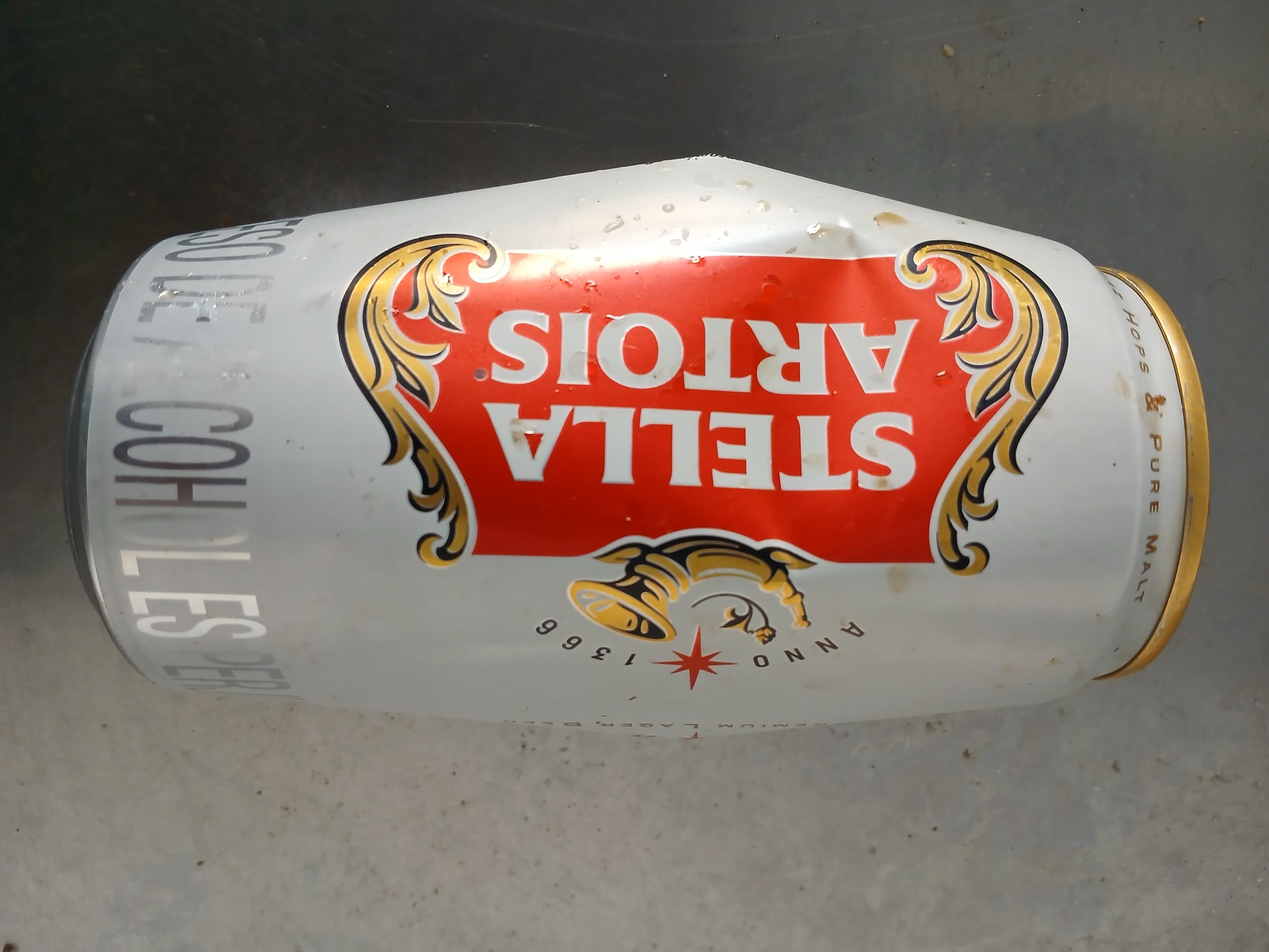Metal: (64, 151, 1213, 738)
